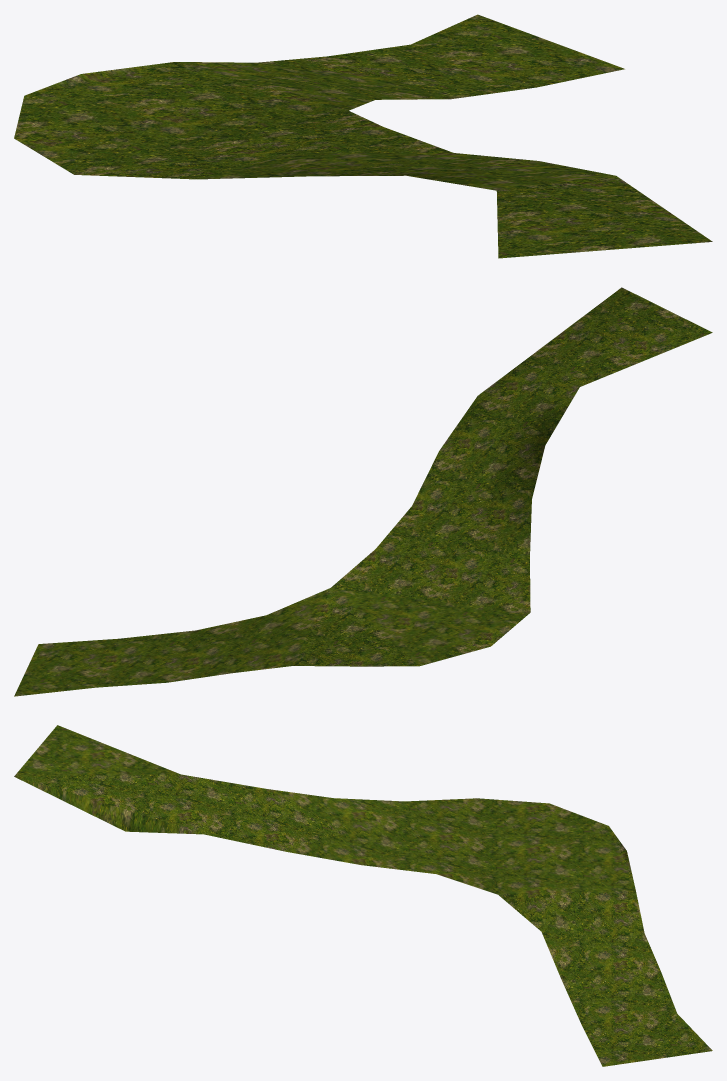
Rendered from OVERHILL_A_01_OBJECT14.fbx.
3 views of the same model, one above another, from view 1: azimuth 30°, elevation 25°; view 2: azimuth 150°, elevation 25°; view 3: azimuth 270°, elevation 25° (orthographic). The views are drawn at different scales.
Visible parts, largest first — view 1: OVERHILL_A_01_OBJECT14; view 2: OVERHILL_A_01_OBJECT14; view 3: OVERHILL_A_01_OBJECT14.
Part boxes in pixels (left/top/right/bottom): OVERHILL_A_01_OBJECT14: left=14, top=14, right=712, bottom=258; OVERHILL_A_01_OBJECT14: left=14, top=287, right=712, bottom=696; OVERHILL_A_01_OBJECT14: left=14, top=725, right=712, bottom=1066.
Size of the model in its own units: 103423 by 43574 by 160493.
1 material, 1 textured.
